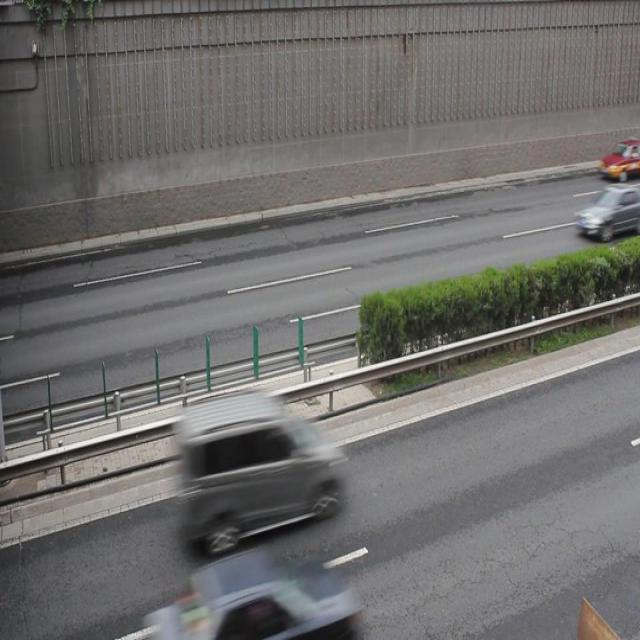car: (173, 391, 343, 546), (160, 543, 350, 640), (574, 181, 640, 239), (597, 140, 640, 182)
